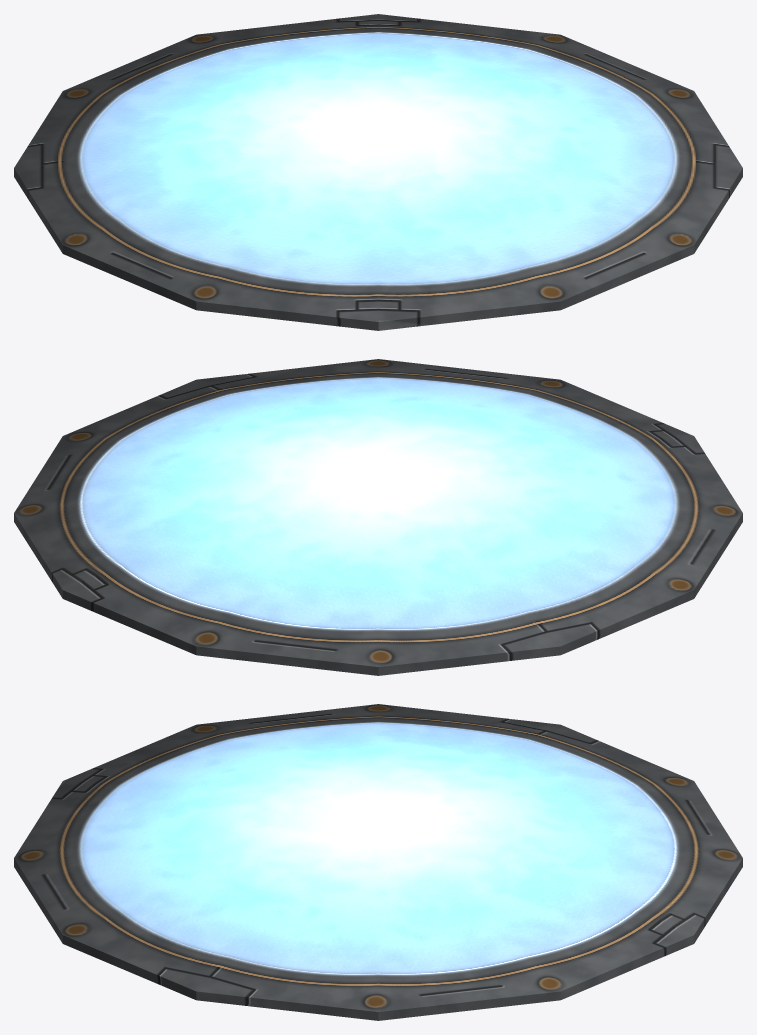
Rendered from teleport-pad.fbx.
3 views of the same model, one above another, from view 1: azimuth 30°, elevation 25°; view 2: azimuth 150°, elevation 25°; view 3: azimuth 270°, elevation 25° (orthographic).
Visible parts, largest first — view 1: teleport_pad_geo; view 2: teleport_pad_geo; view 3: teleport_pad_geo.
Part boxes in pixels (x1=…): teleport_pad_geo: x1=14, y1=14, x2=742, y2=330; teleport_pad_geo: x1=14, y1=359, x2=742, y2=675; teleport_pad_geo: x1=14, y1=704, x2=742, y2=1020.
Size of the model in its own units: 9.15 by 0.6746 by 9.15.
